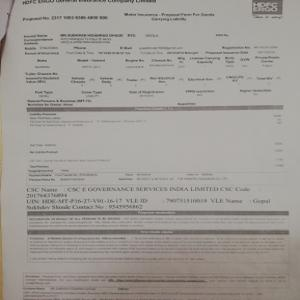image: (253, 1, 283, 14)
table: (25, 105, 285, 171), (29, 41, 281, 106)
text: (26, 185, 271, 210), (20, 12, 111, 21)
